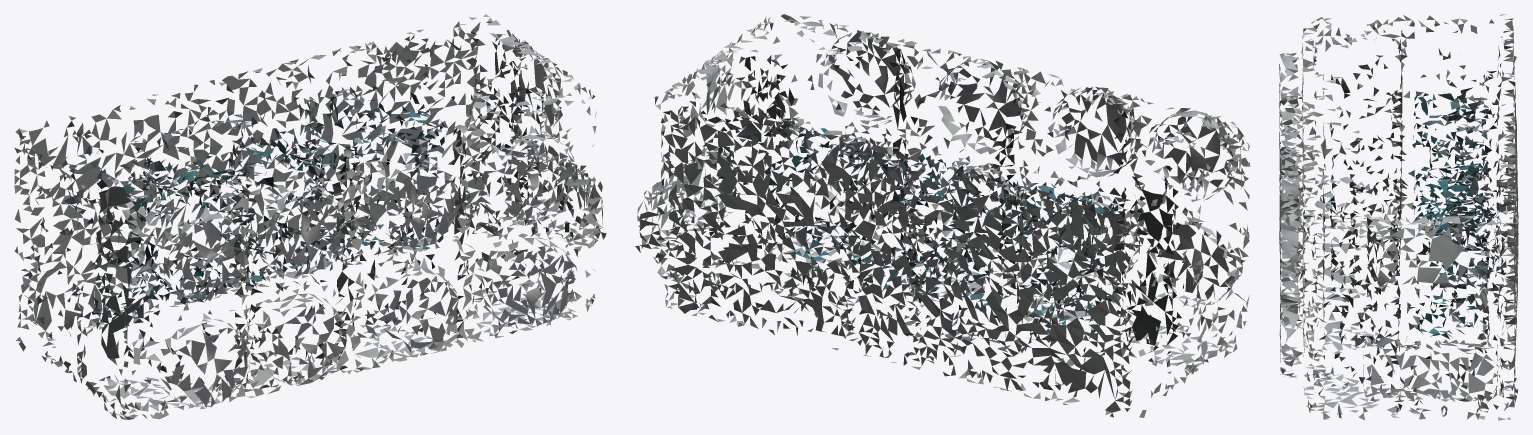
File: test_origin_center.glb
The picture shows the model from 3 angles, left to right: view 1: azimuth 30°, elevation 25°; view 2: azimuth 150°, elevation 25°; view 3: azimuth 270°, elevation 25°; orthographic projection. The views are drawn at different scales.
Parts seen in each view (by area): view 1: world; view 2: world; view 3: world.
Boxes of the visible parts, box(x1,y1,x2,y2) form: world: box(14, 14, 606, 419); world: box(635, 14, 1250, 417); world: box(1279, 14, 1518, 420).
Size of the model in its own units: 0.9926 by 0.4075 by 0.4439.
